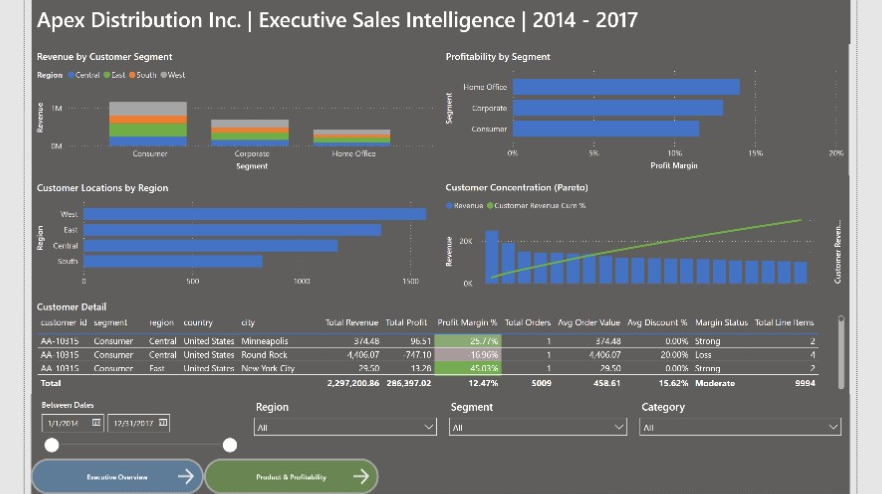

The page's visual inventory and layout, read from the dashboard file:
{"tool":"powerbi","page":{"name":"Customer Analysis","canvas":[1280,775],"ordinal":3},"visuals":[{"type":"columnChart","title":"Revenue by Customer Segment","fields":{"Category":["sales_executive.segment"],"Y":["measure table.Total Revenue"],"Series":["sales_executive.region"]},"box":[10.4,80.1,629.6,202.9],"z":0},{"type":"clusteredBarChart","title":"Profitability by Segment","fields":{"Category":["sales_executive.segment"],"Y":["measure table.Profit Margin %"]},"box":[640,80.1,628.7,202],"z":1},{"type":"clusteredBarChart","title":"Customer Locations by Region","fields":{"Category":["regional_summary.region"],"Y":["Sum(regional_summary.customers)"]},"box":[10.4,283,628.7,183.7],"z":2},{"type":"lineClusteredColumnComboChart","title":"Customer Concentration (Pareto)","fields":{"Category":["sales_executive.customer_name"],"Y":["measure table.Total Revenue"],"Y2":["Divide(measure table.Customer Revenue Cum %, ScopedEval(measure table.Customer Revenue Cum %, []))"]},"box":[640,283,628.7,182.9],"z":3},{"type":"tableEx","title":"Customer Detail","fields":{"Values":["sales_executive.customer_id","sales_executive.segment","sales_executive.region","sales_executive.country","sales_executive.city","measure table.Total Revenue","measure table.Total Profit","measure table.Profit Margin %","measure table.Total Orders","measure table.Avg Order Value","measure table.Avg Discount %","measure table.Margin Status"]},"box":[10.8,466.1,1258.3,154.5],"z":4},{"type":"slicer","fields":{"Values":["Dim Date.Date"]},"box":[9.7,619.5,329.7,100.5],"z":5},{"type":"slicer","fields":{"Values":["sales_executive.region"]},"box":[339.4,619.5,300.6,100.5],"z":6},{"type":"slicer","fields":{"Values":["sales_executive.segment"]},"box":[640,619.5,300.6,100.5],"z":7},{"type":"slicer","fields":{"Values":["sales_executive.category"]},"box":[940.6,619.5,329.7,100.5],"z":8},{"type":"actionButton","title":"Executive Overview","box":[9.6,719.3,266.5,55.7],"z":9},{"type":"actionButton","title":"Executive Overview","box":[276,719.3,269.1,55.7],"z":10},{"type":"textbox","box":[10.4,11.3,1260,68.8],"z":11}]}

Visuals, with their boxes on the page's 1280x775 design canvas (x1, y1, x2, y2). These are canvas units, not pixel positions in the 882x494 screenshot, which may show the page scaled, cropped or inside an application window:
"Revenue by Customer Segment" columnChart: 10/80/640/283
"Profitability by Segment" clusteredBarChart: 640/80/1269/282
"Customer Locations by Region" clusteredBarChart: 10/283/639/467
"Customer Concentration (Pareto)" lineClusteredColumnComboChart: 640/283/1269/466
"Customer Detail" tableEx: 11/466/1269/621
slicer - Dim Date.Date: 10/620/339/720
slicer - sales_executive.region: 339/620/640/720
slicer - sales_executive.segment: 640/620/941/720
slicer - sales_executive.category: 941/620/1270/720
"Executive Overview" actionButton: 10/719/276/775
"Executive Overview" actionButton: 276/719/545/775
textbox: 10/11/1270/80
